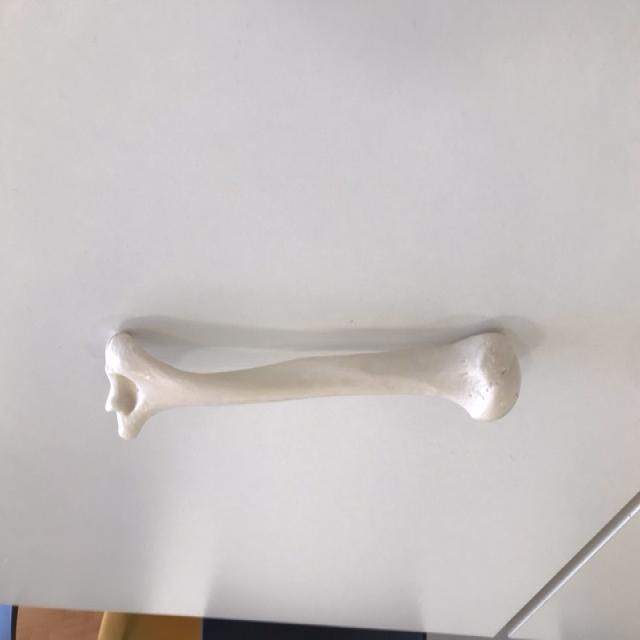bone: (100, 322, 524, 446)
